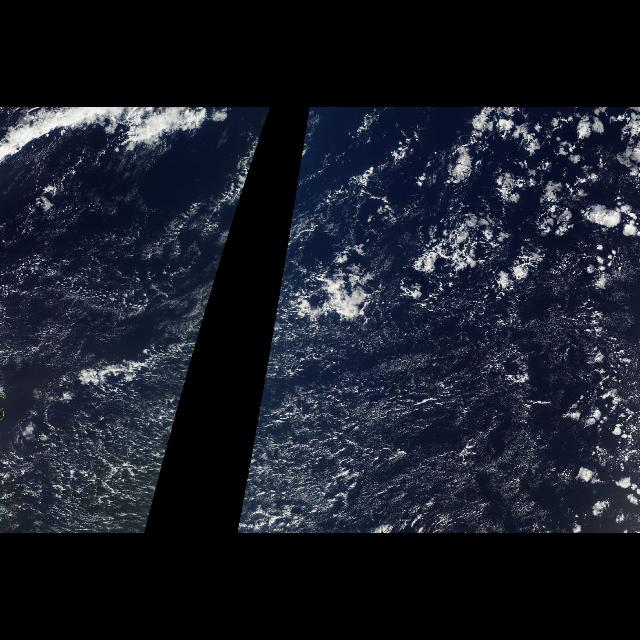Flower: (412, 112, 640, 314), (279, 226, 379, 336)
Gravel: (237, 371, 561, 533), (74, 371, 190, 533)
Sugar: (1, 194, 188, 366)
